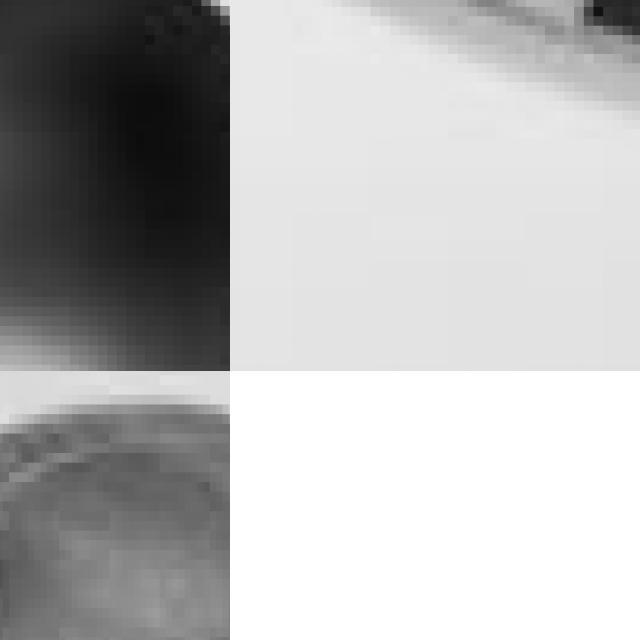spoons: (0, 0, 230, 371), (0, 371, 230, 640)
